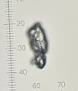microplastic: (27, 22, 48, 69)
